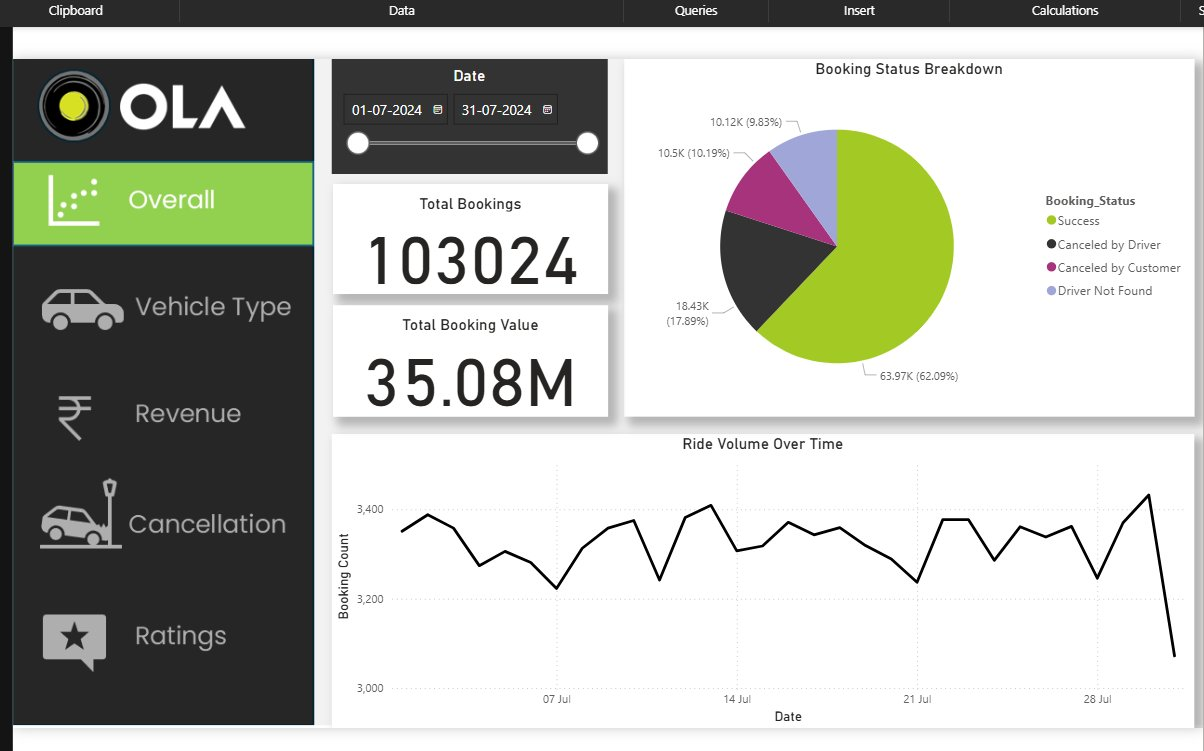

Layout of this report page (visuals, bound fields, positions):
{"tool":"powerbi","page":{"name":"Overall","canvas":[1280,720],"ordinal":0},"visuals":[{"type":"actionButton","box":[0,218.4,325.2,92],"z":0},{"type":"actionButton","box":[0,336.2,325.2,92],"z":1000},{"type":"actionButton","box":[0,446.6,325.2,92],"z":2000},{"type":"actionButton","box":[1.2,582.8,323.9,92],"z":3000},{"type":"lineChart","title":"Ride Volume Over Time","fields":{"Y":["CountNonNull(Bookings.Booking_ID)"],"Category":["Bookings.Date"]},"box":[342.9,403.4,927.9,317.4],"z":4000},{"type":"pieChart","title":"Booking Status Breakdown","fields":{"Category":["Bookings.Booking_Status"],"Y":["CountNonNull(Bookings.Booking_Status)"]},"box":[657.6,0,613.2,384.6],"z":5000},{"type":"slicer","title":"Date","fields":{"Values":["Bookings.Date"]},"box":[343.1,0,296.4,123.5],"z":6000},{"type":"card","title":"Total Bookings","fields":{"Values":["Count(Bookings.Booking_ID)"]},"box":[344.3,134.5,295.9,118.3],"z":7000},{"type":"card","title":"Total Booking Value","fields":{"Values":["Sum(Bookings.Booking_Value)"]},"box":[344.3,264.9,295.9,119.7],"z":8000}]}

Visuals, with their boxes on the page's 1280x720 design canvas (x1, y1, x2, y2). These are canvas units, not pixel positions in the 1204x751 screenshot, which may show the page scaled, cropped or inside an application window:
actionButton: bbox=(0, 218, 325, 310)
actionButton: bbox=(0, 336, 325, 428)
actionButton: bbox=(0, 447, 325, 539)
actionButton: bbox=(1, 583, 325, 675)
"Ride Volume Over Time" lineChart: bbox=(343, 403, 1271, 721)
"Booking Status Breakdown" pieChart: bbox=(658, 0, 1271, 385)
"Date" slicer: bbox=(343, 0, 640, 124)
"Total Bookings" card: bbox=(344, 134, 640, 253)
"Total Booking Value" card: bbox=(344, 265, 640, 385)
